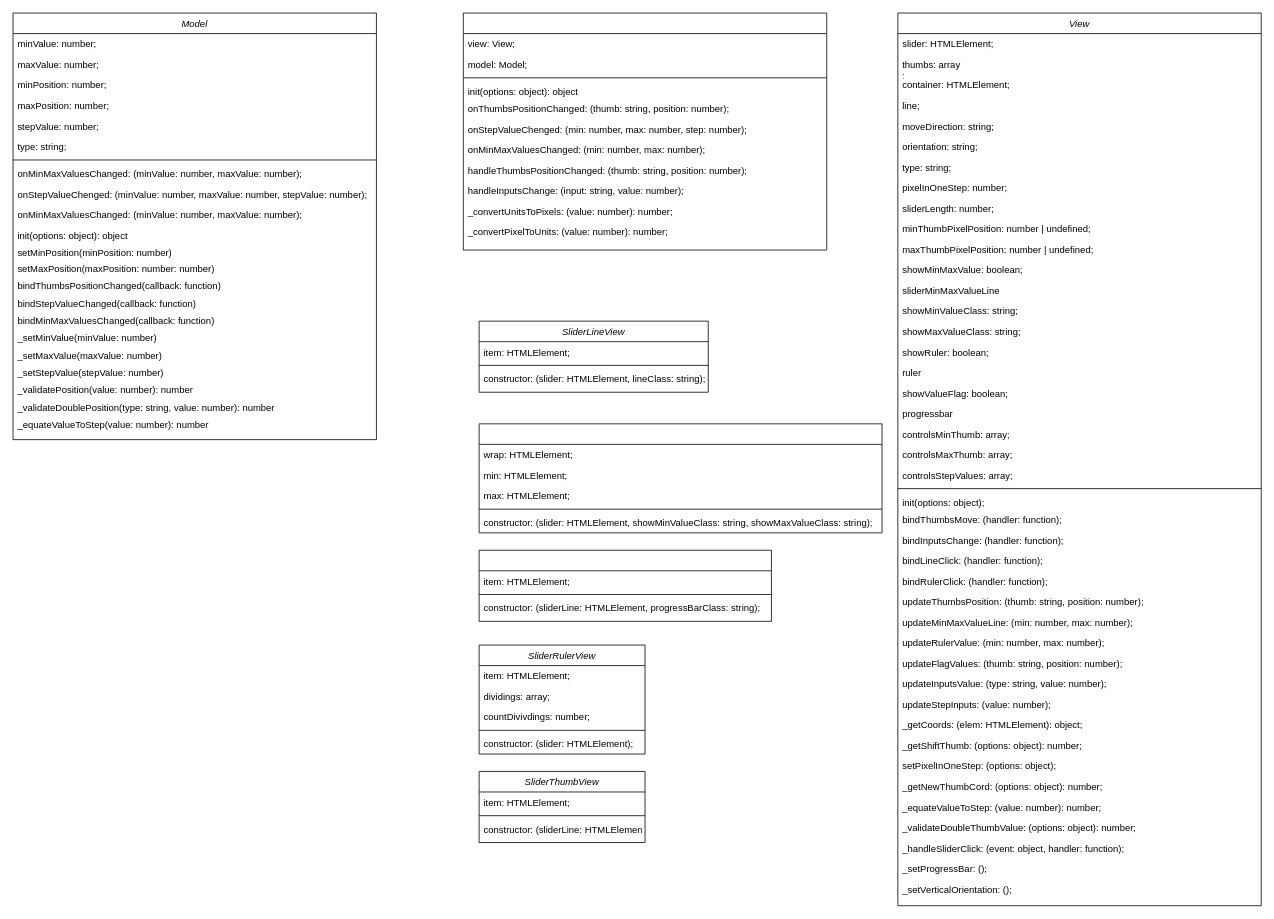
Image size: 1274x919. Some labels were removed from this diagram. The box of each missing label's shape, as (x1, y1, x2, y2) in pixels:
Presenter: (463, 12, 827, 250)
SliderMinMaxValueLineView: (478, 423, 882, 533)
SliderProgressBar: (478, 549, 771, 621)
